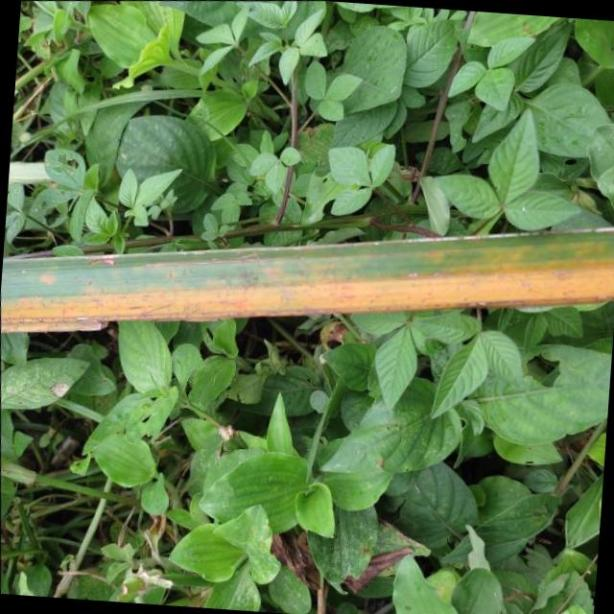Megnesium: (0, 221, 614, 337)
